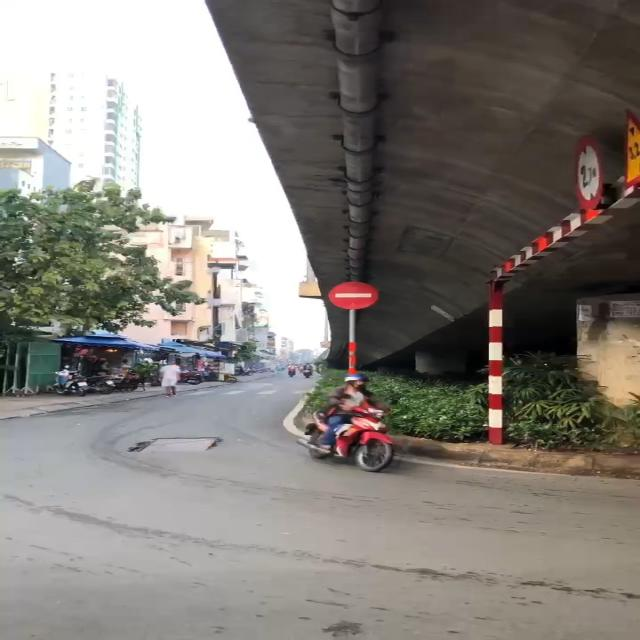Bien bao cam di nguoc chieu: (329, 279, 379, 311)
